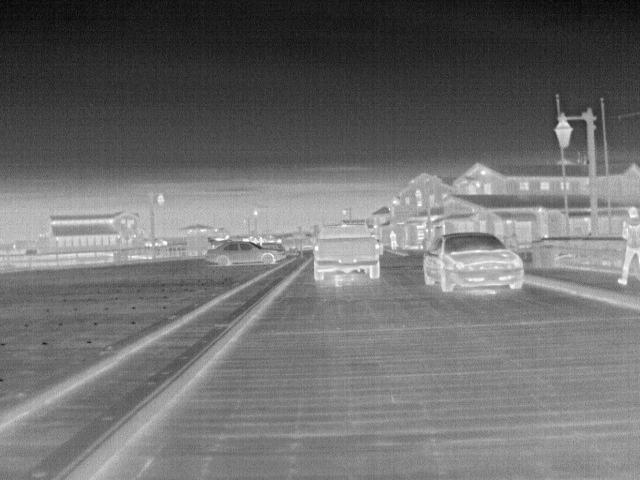car: (425, 230, 526, 291), (312, 223, 383, 282), (204, 238, 284, 268)
person: (616, 205, 640, 287), (386, 227, 401, 251)
